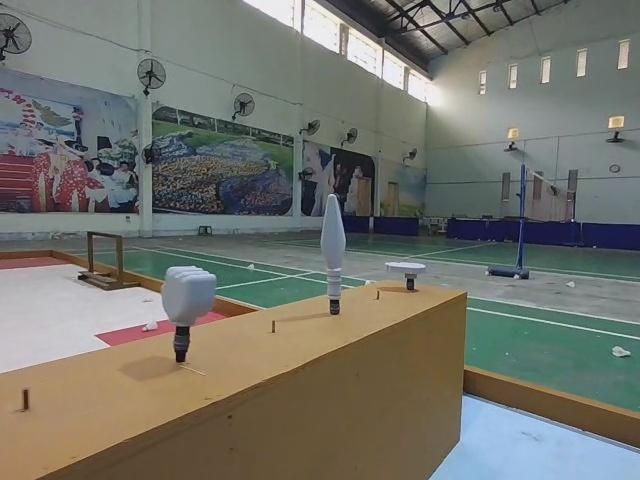Fist: (162, 263, 217, 364)
Hand: (384, 257, 426, 293)
Sph: (320, 194, 349, 318)
